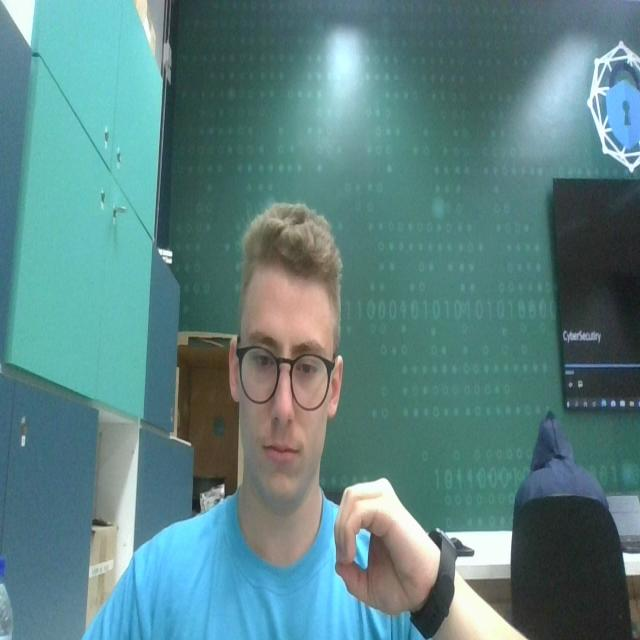O: (332, 467, 428, 618)
